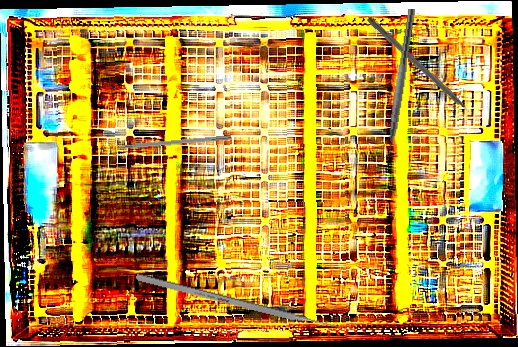Chopper: (375, 7, 416, 165)
Hook Surgical: (98, 134, 232, 152)
Pusher: (135, 273, 354, 335), (364, 15, 484, 127)
